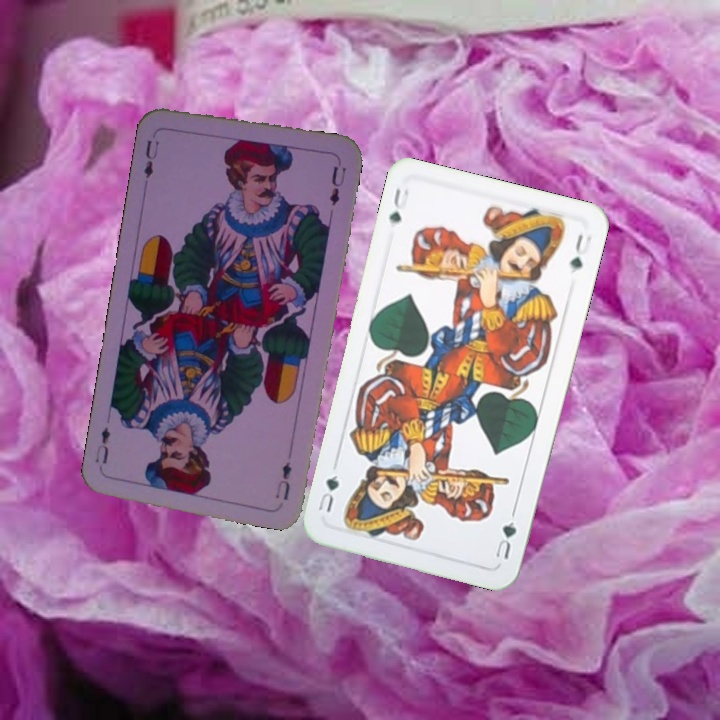EU: (140, 136, 162, 181), (272, 458, 294, 502)
GU: (491, 517, 519, 562), (385, 184, 411, 226)
